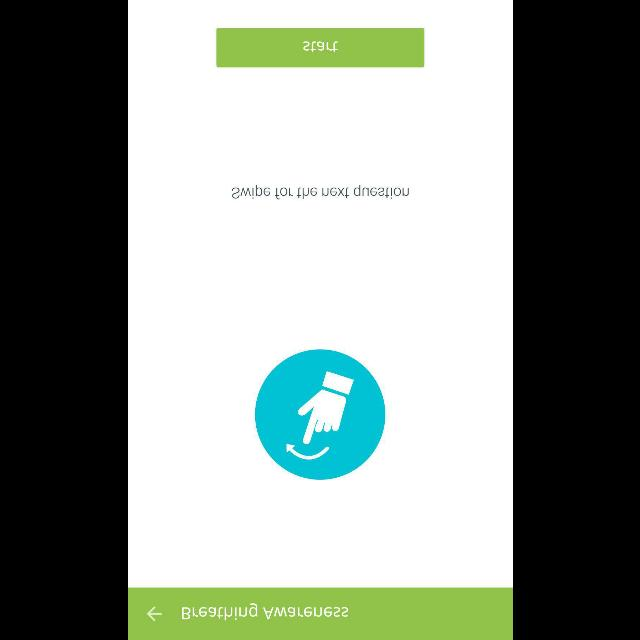icon: (146, 606, 162, 620)
image: (254, 349, 384, 479)
text: (181, 603, 347, 621), (232, 185, 408, 199)
textbutton: (216, 28, 424, 68)
toolbar: (128, 587, 512, 639)
